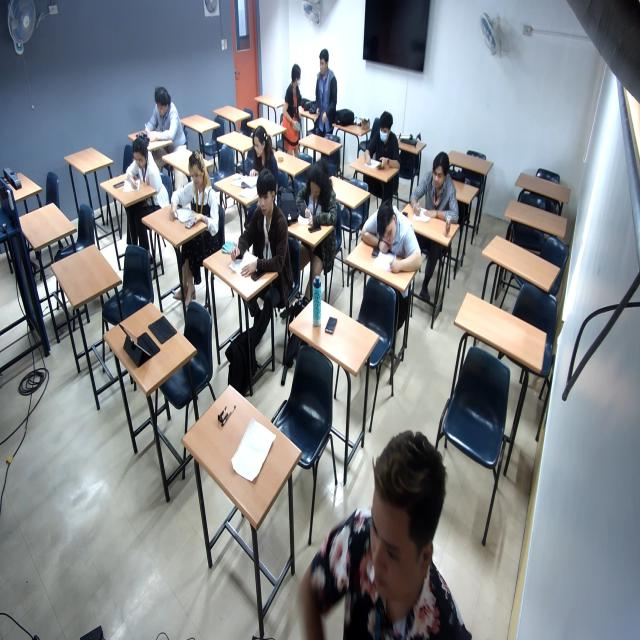read: (226, 183, 283, 288), (166, 153, 225, 239), (360, 217, 427, 279), (290, 167, 339, 241), (408, 160, 460, 227), (229, 125, 275, 194), (118, 140, 162, 199), (360, 114, 402, 171), (141, 86, 181, 144)
